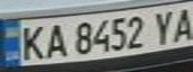2: (124, 12, 151, 50)
4: (90, 16, 115, 54)
5: (109, 15, 130, 52)
8: (69, 18, 93, 55)
A: (42, 20, 69, 58), (169, 3, 193, 43)
K: (15, 21, 48, 62)
Y: (148, 7, 181, 45)
